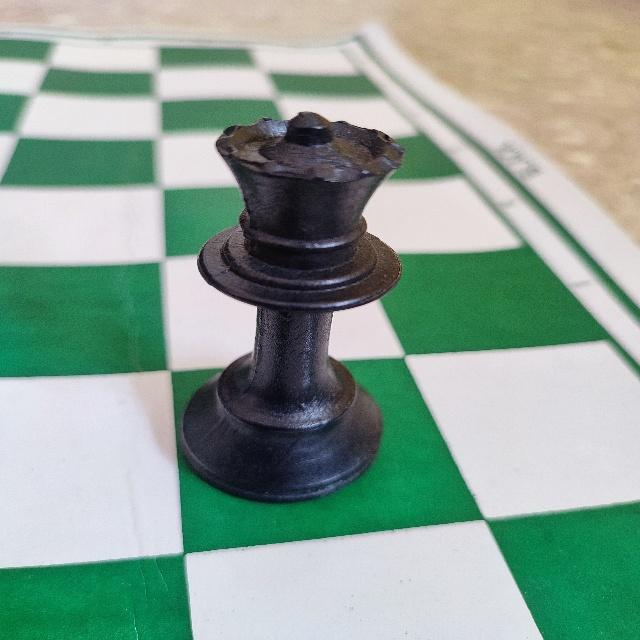Queen: (180, 104, 410, 504)
